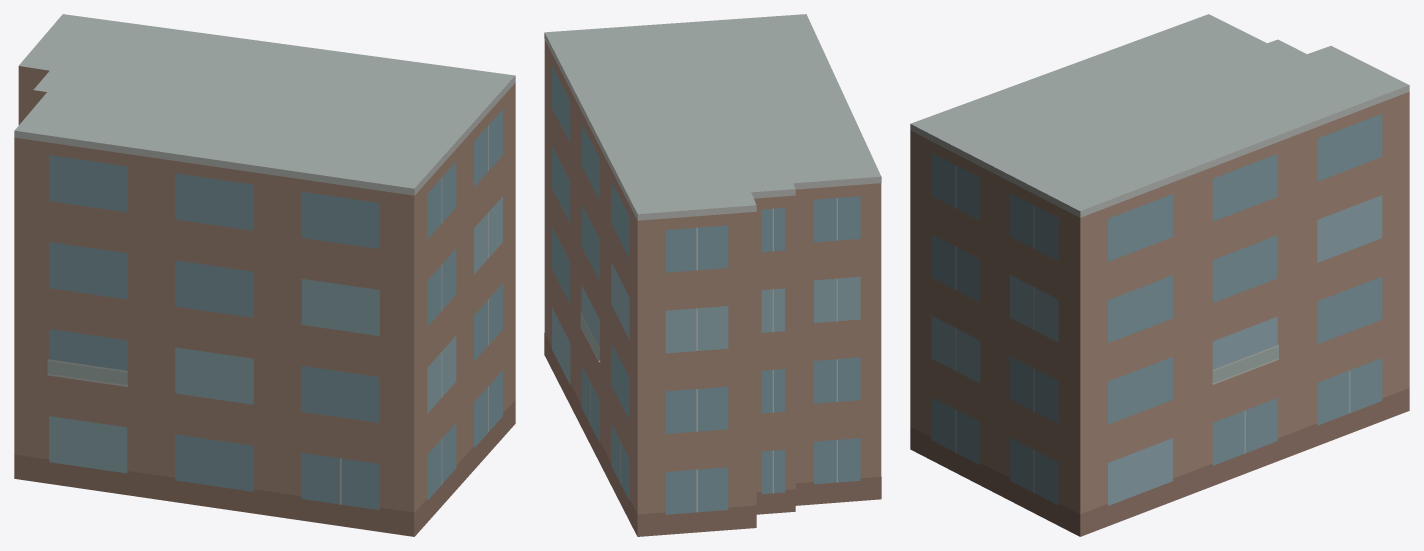
Rendered from survey-upis-32909848.glb.
The picture shows the model from 3 angles, left to right: view 1: azimuth 30°, elevation 25°; view 2: azimuth 150°, elevation 25°; view 3: azimuth 270°, elevation 25°; orthographic projection. The views are drawn at different scales.
Parts seen in each view (by area): view 1: survey-upis-32909848.tmp; view 2: survey-upis-32909848.tmp; view 3: survey-upis-32909848.tmp.
Part boxes in pixels (left/top/right/bottom): survey-upis-32909848.tmp: left=14, top=14, right=515, bottom=536; survey-upis-32909848.tmp: left=544, top=14, right=881, bottom=536; survey-upis-32909848.tmp: left=910, top=14, right=1409, bottom=536.
Bounding box in the file's own units: 15.86 × 12.2 × 16.97.
